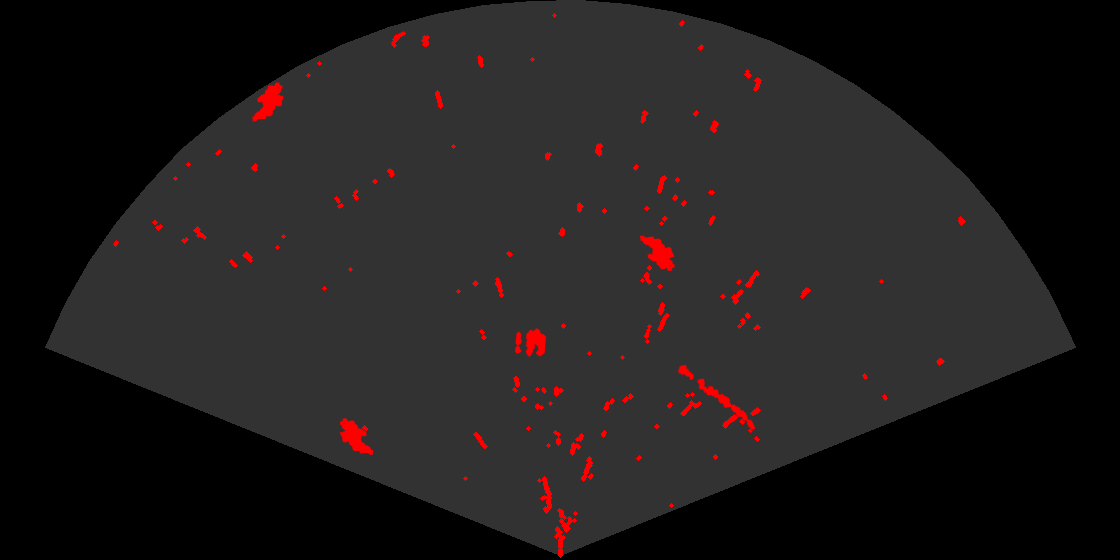AUV: (338, 416, 375, 457), (638, 234, 676, 273), (251, 81, 285, 123)
ball: (513, 327, 548, 359)
chain: (676, 363, 757, 431)
